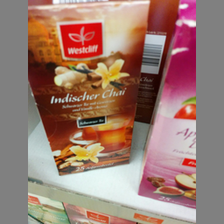tea: (28, 1, 149, 176), (132, 1, 195, 211)
